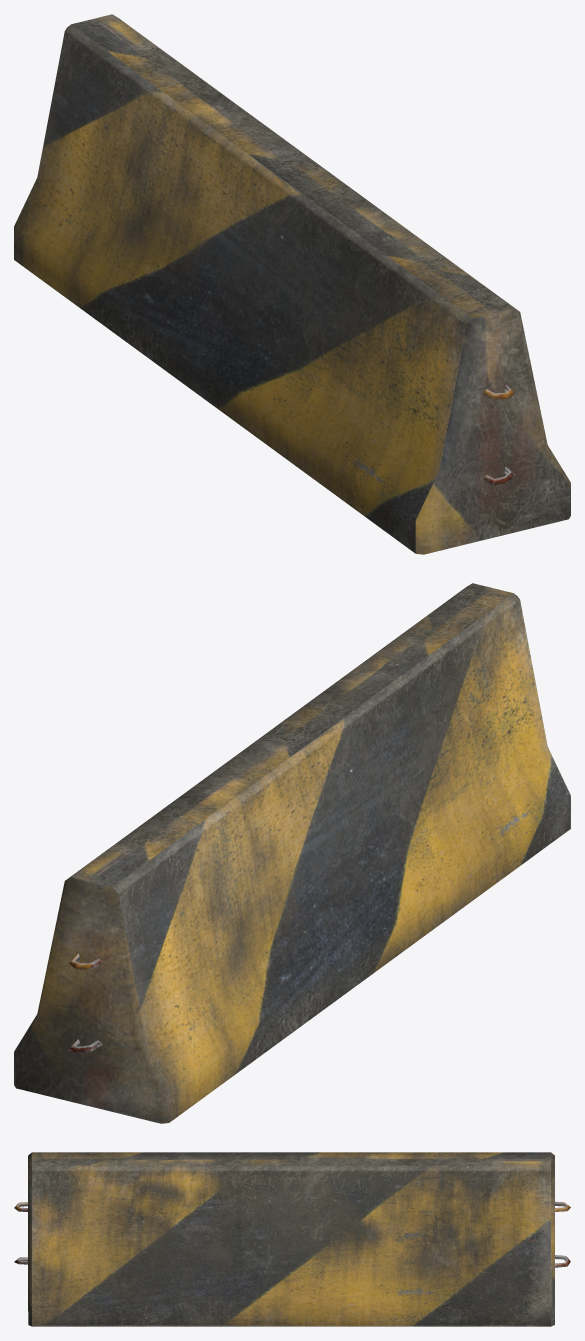
File: road_concrete.fbx
3 renders of one model, top to bottom at view 1: azimuth 30°, elevation 25°; view 2: azimuth 150°, elevation 25°; view 3: azimuth 270°, elevation 25°, orthographic. The views are drawn at different scales.
Parts seen in each view (by area): view 1: SP_CCS_ConcreteBlock_1; view 2: SP_CCS_ConcreteBlock_1; view 3: SP_CCS_ConcreteBlock_1.
Boxes of the visible parts, box(x1,y1,x2,y2) form: SP_CCS_ConcreteBlock_1: box(14, 14, 570, 554); SP_CCS_ConcreteBlock_1: box(14, 583, 570, 1123); SP_CCS_ConcreteBlock_1: box(14, 1152, 570, 1326).
Bounding box in the file's own units: 66.04 × 90 × 317.
